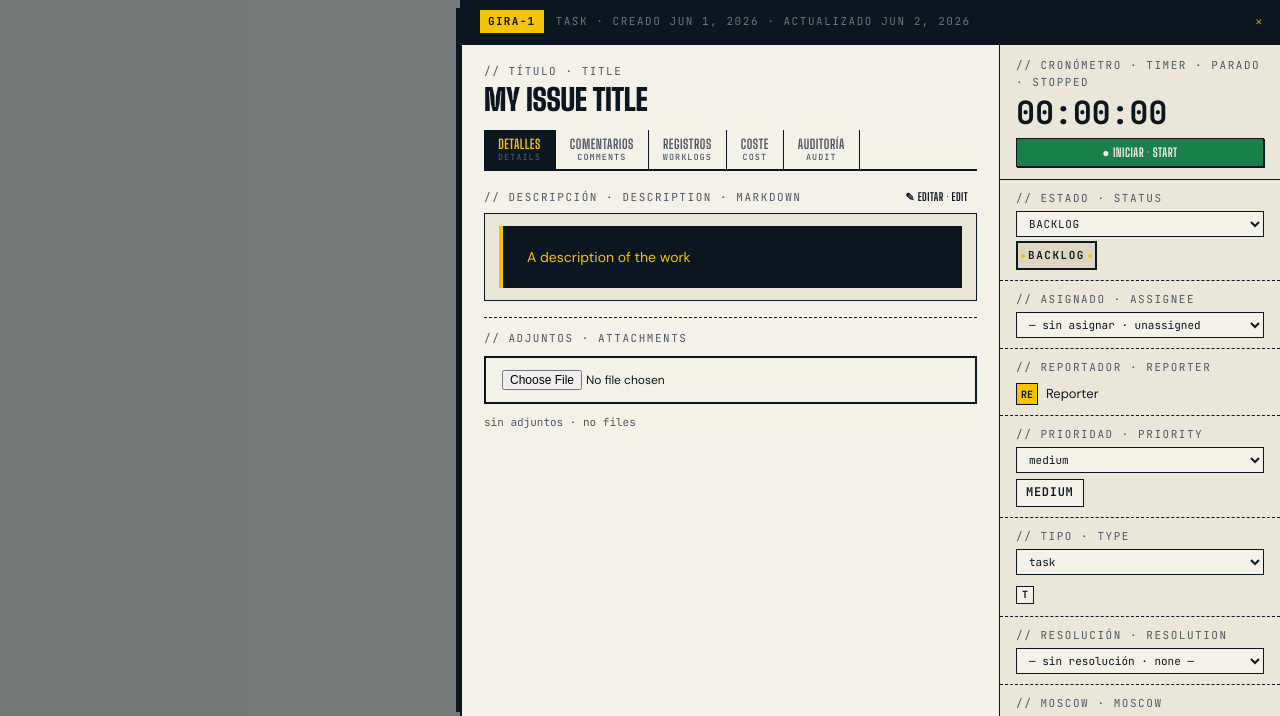
Test: IssueDrawer › shows the empty state when there are no comments
expect the heading "My issue title" is shown: met, box [484, 81, 648, 117]
Click the text "Comentarios".
click(602, 144)  # box [570, 138, 634, 151]
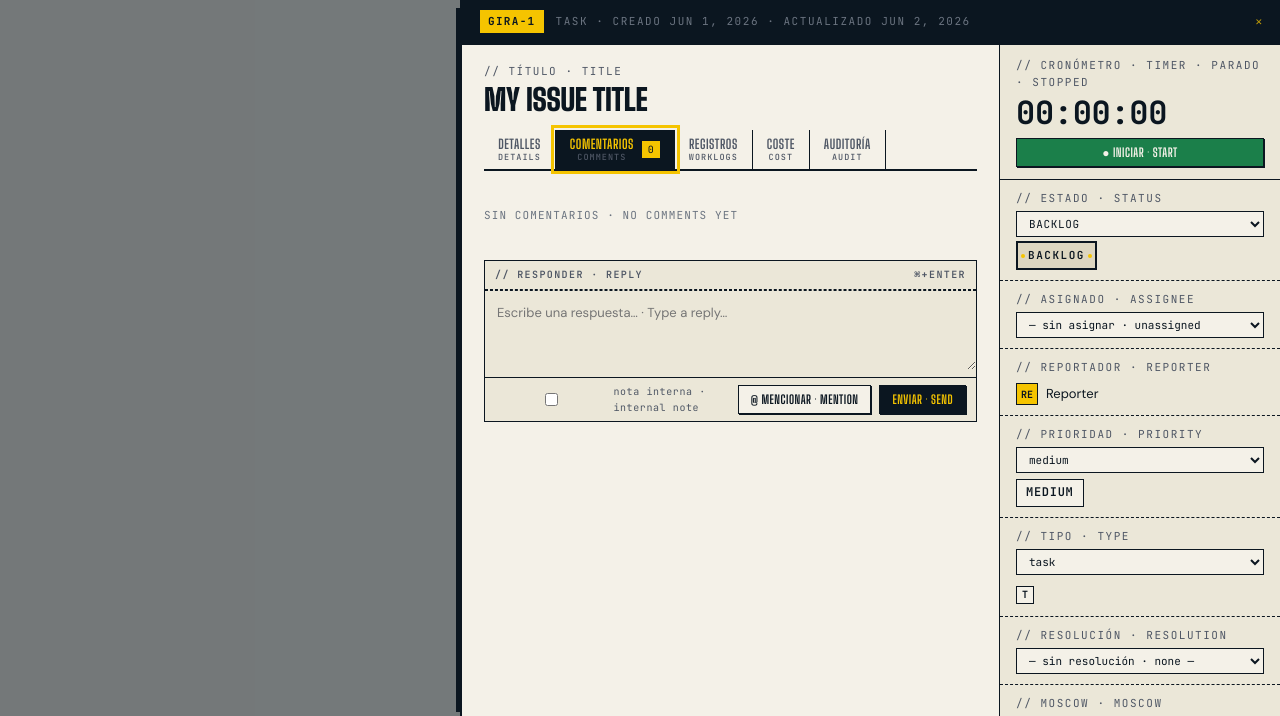
expect the text "Sin comentarios · No comments yet" is shown: met, box [484, 208, 738, 222]
